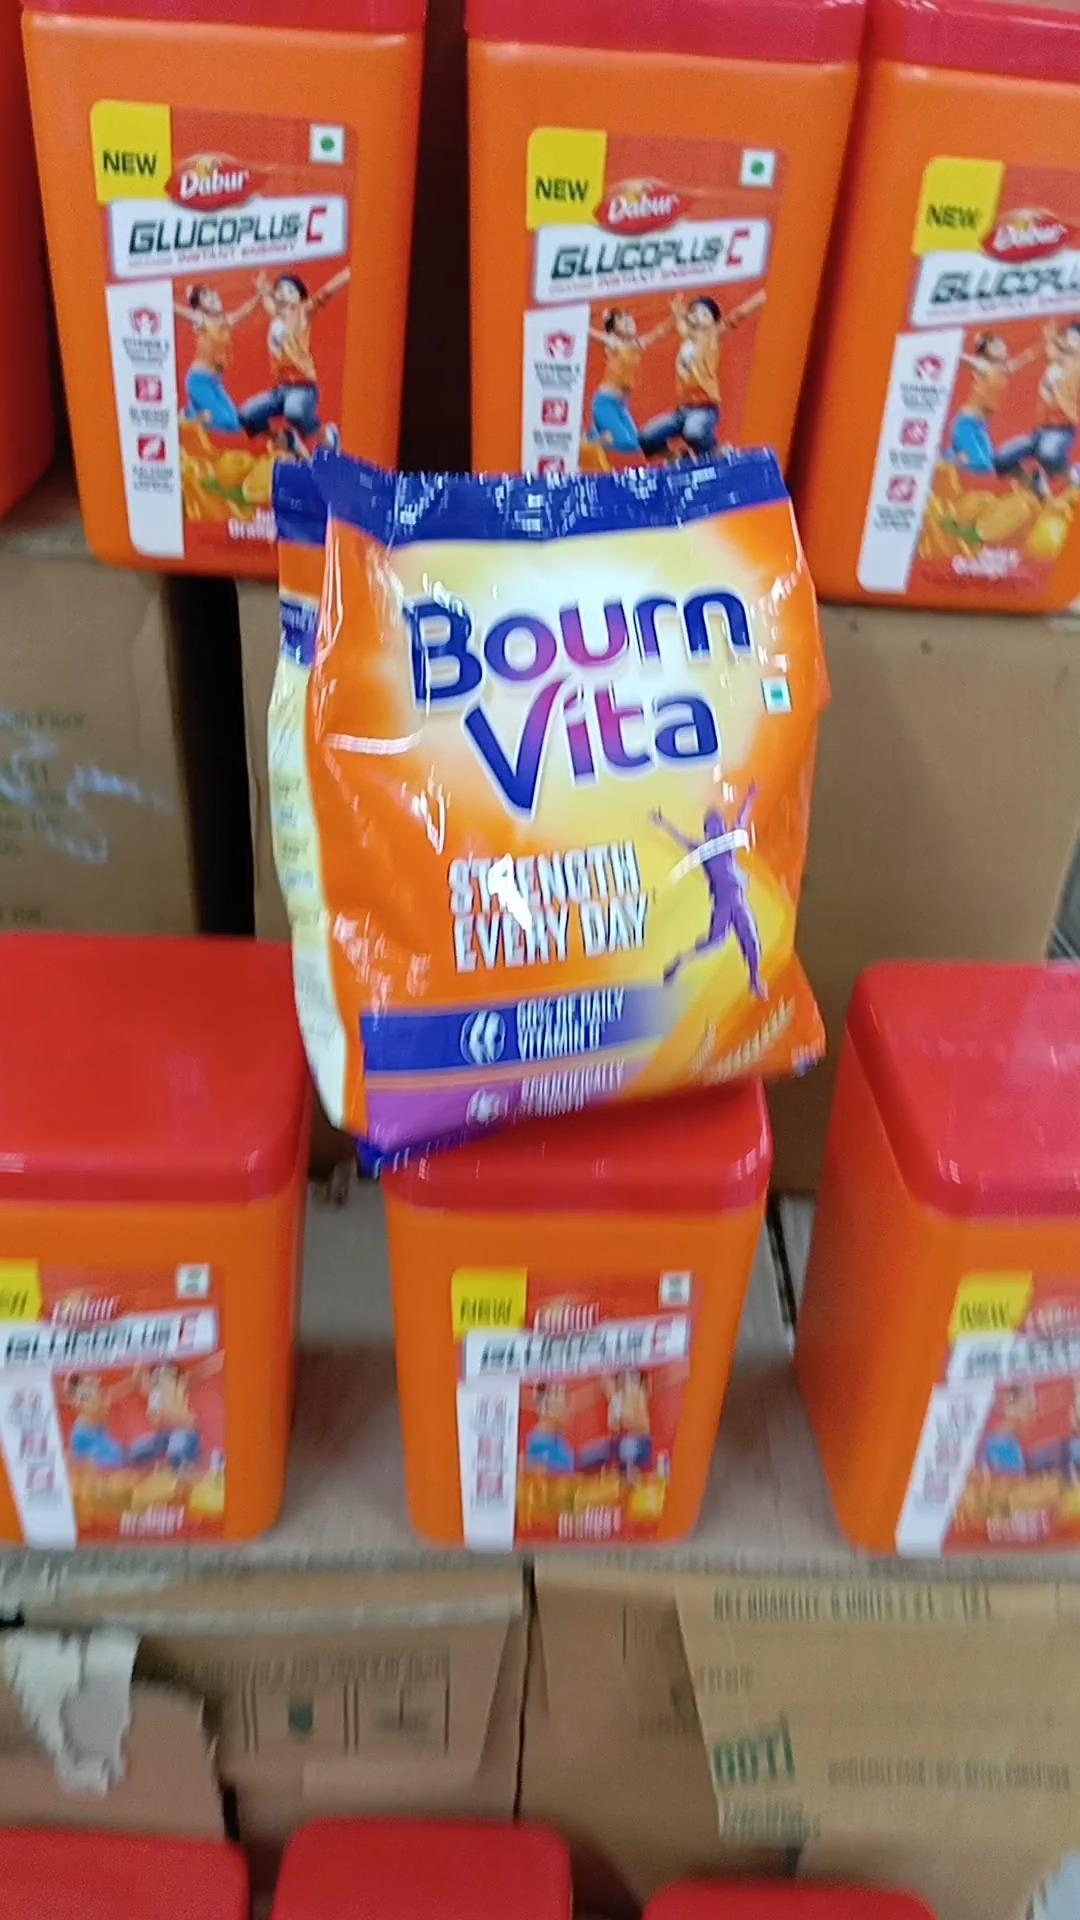BOURN_VITA_500_G_POUCH: (301, 444, 820, 1088)
